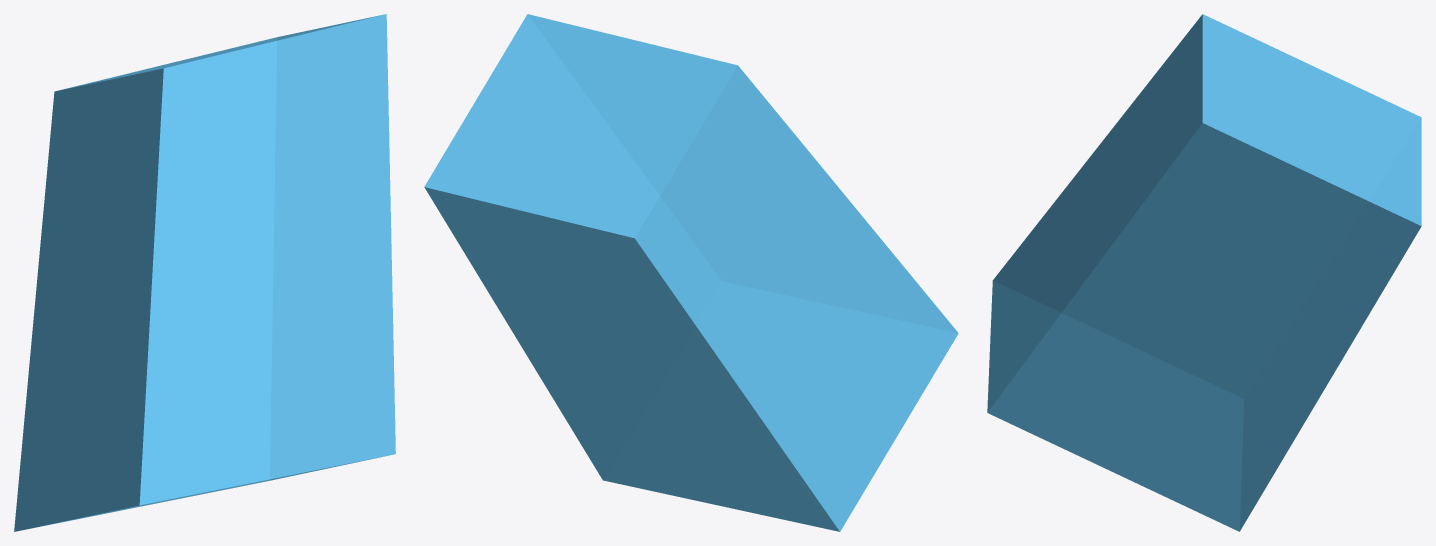
File: Event_420094457_HBrechit_8.fbx
3 renders of one model, left to right at view 1: azimuth 30°, elevation 25°; view 2: azimuth 150°, elevation 25°; view 3: azimuth 270°, elevation 25°, orthographic. The views are drawn at different scales.
Visible parts, largest first — view 1: Model; view 2: Model; view 3: Model.
Part boxes in pixels (x1,y1,x2,y2): Model: (14,14,395,531); Model: (424,14,958,531); Model: (987,14,1421,531).
Size of the model in its own units: 0.6619 by 0.8204 by 0.7066.
